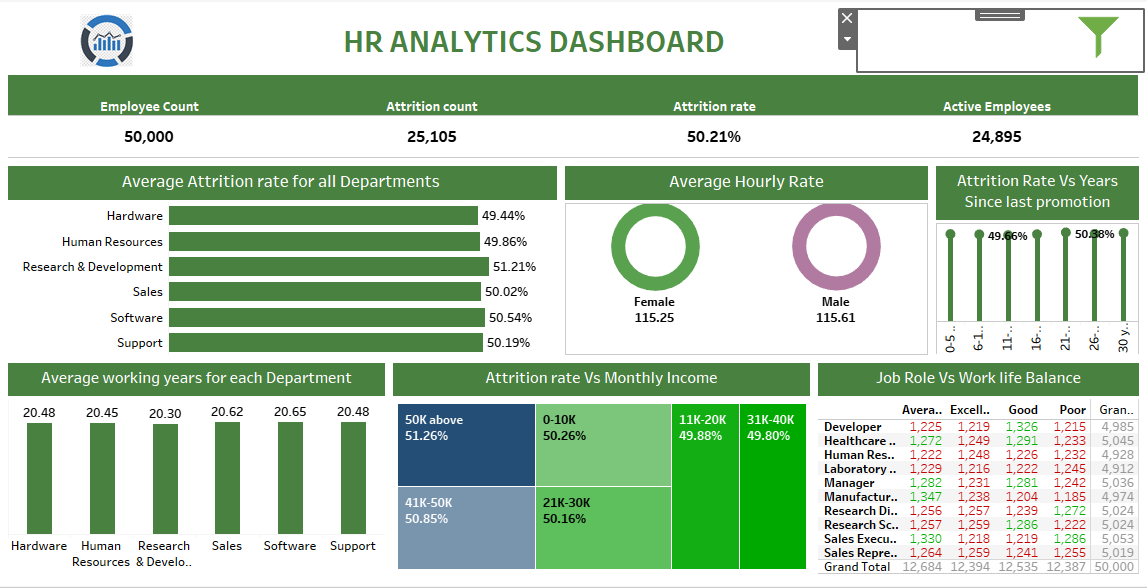

What the dashboard file says about the page in this screenshot:
{"tool":"tableau","page":{"name":"Dashboard 1","canvas":[1000,1000],"units":"permille","ordinal":0},"visuals":[{"type":"image","param":"Image/human-resource-management-system-business-company-employer-branding-dashbo","box":[4.2,7.7,179.8,105.9]},{"type":"text","box":[184,7.7,564,105.9]},{"type":"blank","box":[747.9,7.7,247.9,105.9]},{"type":"dashboard-object","box":[928.6,11.2,52.2,98]},{"type":"filter","title":"Average Hourly Rate","param":"[federated.01sc40x1sqb4vv149uidj0epj5h5].[none:BusinessTravel:nk]","box":[880.1,40.9,99.4,96.8]},{"type":"worksheet","title":"KPI","mark":"Automatic","box":[4.2,113.6,991.7,87.9]},{"type":"filter","title":"Average Hourly Rate","param":"[federated.01sc40x1sqb4vv149uidj0epj5h5].[none:Gender:nk]","box":[880.1,137.7,99.4,96.8]},{"type":"worksheet","title":"Average Attrition rate for all Departments ","mark":"Automatic","rows":["Department"],"cols":["Calculation_787004087355998209"],"box":[4.2,201.6,290.1,410.6]},{"type":"worksheet","title":"Average Hourly Rate","mark":"Pie","rows":["HourlyRate","HourlyRate"],"cols":["Gender"],"box":[294.3,201.6,193.2,410.6]},{"type":"worksheet","title":"Attrition Rate Vs Years Since last promotion","mark":"Automatic","rows":["Calculation_787004087355998209","Calculation_787004087355998209"],"cols":["Calculation_787004087366479879"],"box":[487.5,201.6,508.3,410.6]},{"type":"filter","title":"Average Hourly Rate","param":"[federated.01sc40x1sqb4vv149uidj0epj5h5].[none:JobRole:nk]","box":[880.1,234.5,99.4,96.8]},{"type":"worksheet","title":"Average working years for each Department","mark":"Automatic","rows":["TotalWorkingYears"],"cols":["Department"],"box":[4.2,612.1,335.3,380.1]},{"type":"worksheet","title":"Attrition rate Vs Monthly Income","mark":"Automatic","box":[339.5,612.1,221.3,380.1]},{"type":"worksheet","title":"Job Role Vs Work life Balance","mark":"Automatic","rows":["JobRole"],"cols":["Calculation_787004087364804612"],"box":[560.8,612.1,435,380.1]}]}

Visuals, with their boxes on the dashboard's canvas, which has no fixed pixel size, in thousandths of its width and height (x1, y1, x2, y2). These are canvas units, not pixel positions in the 1147x588 screenshot, which may show the page scaled, cropped or inside an application window:
image: region(4, 8, 184, 114)
text: region(184, 8, 748, 114)
blank: region(748, 8, 996, 114)
dashboard-object: region(929, 11, 981, 109)
"Average Hourly Rate" filter: region(880, 41, 980, 138)
"KPI" worksheet: region(4, 114, 996, 202)
"Average Hourly Rate" filter: region(880, 138, 980, 234)
"Average Attrition rate for all Departments " worksheet: region(4, 202, 294, 612)
"Average Hourly Rate" worksheet (Pie marks): region(294, 202, 488, 612)
"Attrition Rate Vs Years Since last promotion" worksheet: region(488, 202, 996, 612)
"Average Hourly Rate" filter: region(880, 234, 980, 331)
"Average working years for each Department" worksheet: region(4, 612, 340, 992)
"Attrition rate Vs Monthly Income" worksheet: region(340, 612, 561, 992)
"Job Role Vs Work life Balance" worksheet: region(561, 612, 996, 992)
